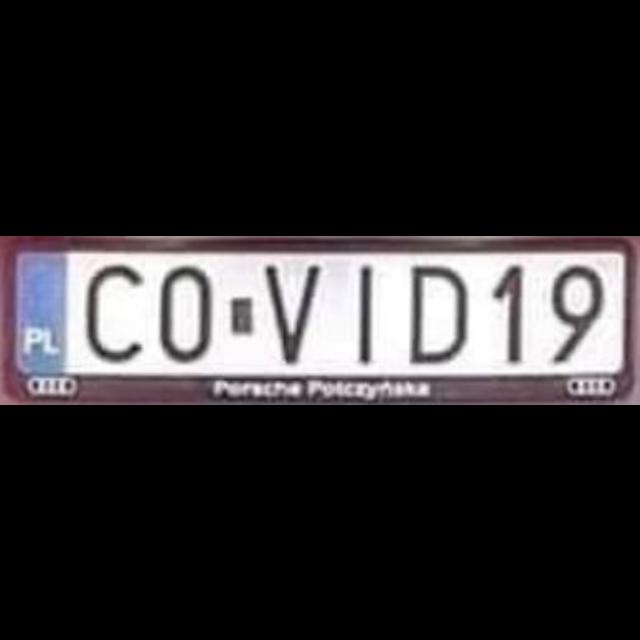pl_license_plate: (14, 248, 622, 370)
